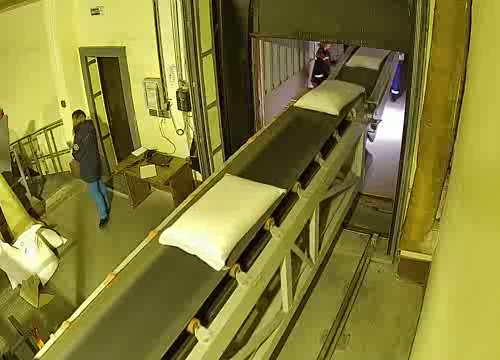bag: (157, 171, 290, 272), (293, 78, 369, 117), (345, 45, 393, 71)
